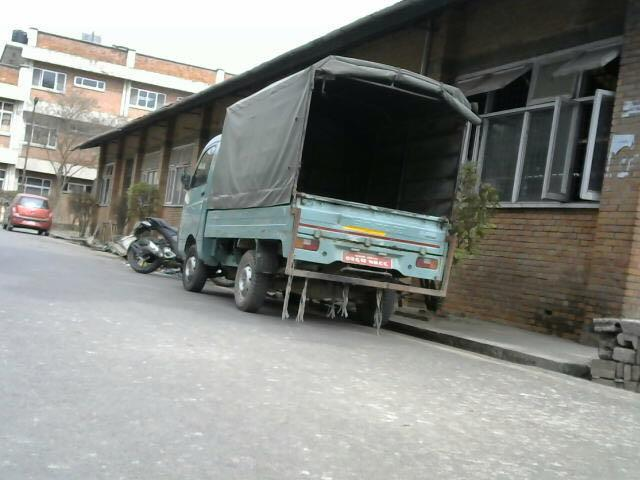Building: (0, 9, 201, 154)
Car: (3, 187, 61, 243)
Motorcycle: (164, 61, 475, 333)
Road: (3, 230, 640, 480)
